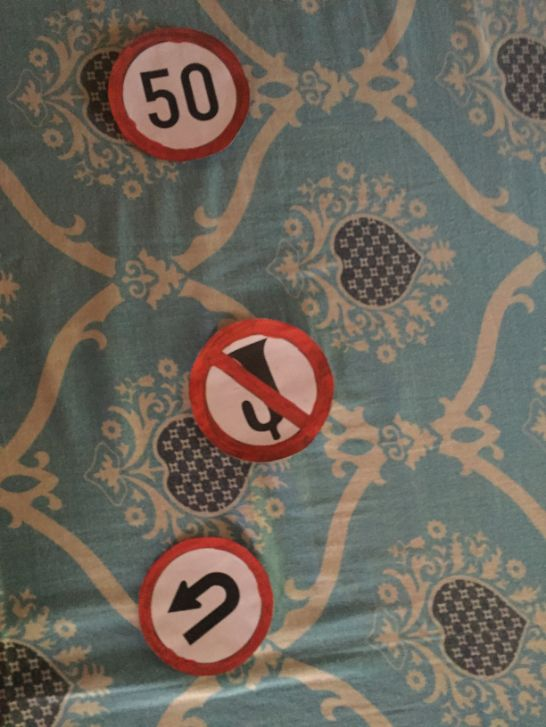no-horn: (188, 312, 335, 467)
speed-50: (104, 25, 254, 166)
u-turn: (138, 530, 280, 677)
